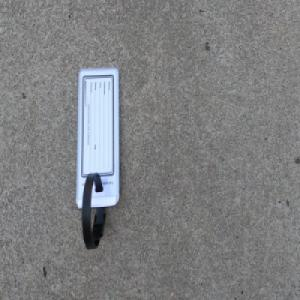LuggageTag: (74, 66, 122, 254)
